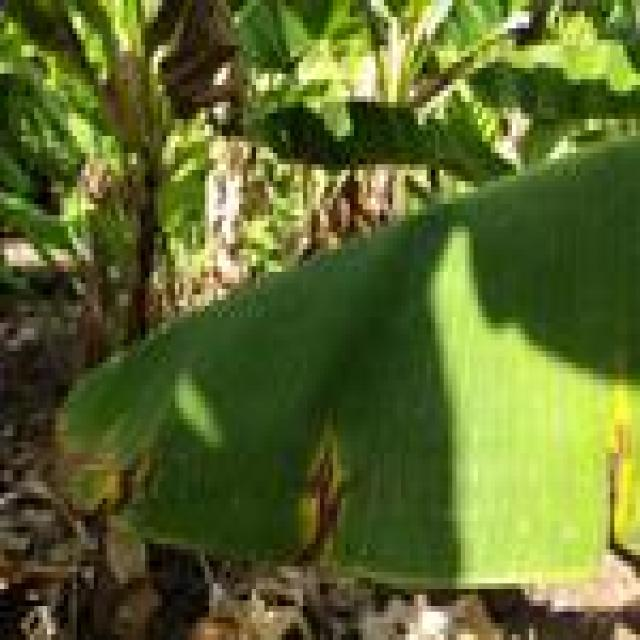Early_rust: (54, 303, 380, 623), (51, 0, 422, 261)
